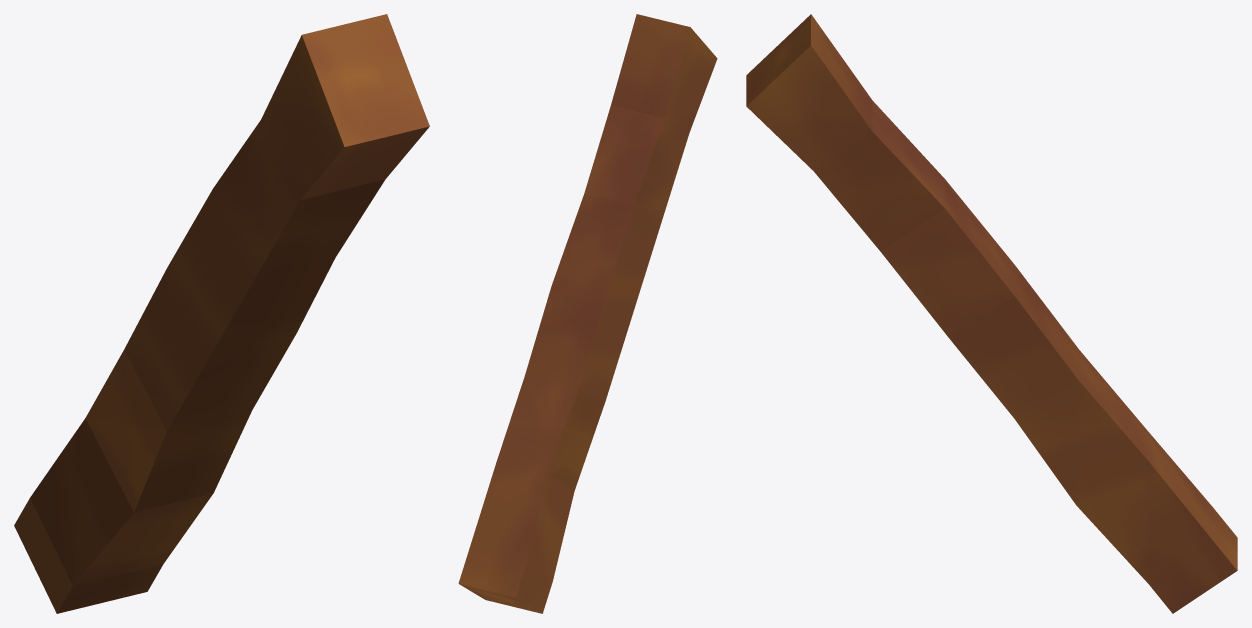
Rendered from RW Pillers 1.fbx.
The picture shows the model from 3 angles, left to right: view 1: azimuth 30°, elevation 25°; view 2: azimuth 150°, elevation 25°; view 3: azimuth 270°, elevation 25°; orthographic projection. The views are drawn at different scales.
Parts seen in each view (by area): view 1: RW Pillers 1; view 2: RW Pillers 1; view 3: RW Pillers 1.
Part boxes in pixels (x1=…): RW Pillers 1: x1=14, y1=14, x2=429, y2=613; RW Pillers 1: x1=458, y1=14, x2=717, y2=613; RW Pillers 1: x1=746, y1=14, x2=1237, y2=613.
Size of the model in its own units: 27.97 by 216 by 169.
1 material, 1 textured.
